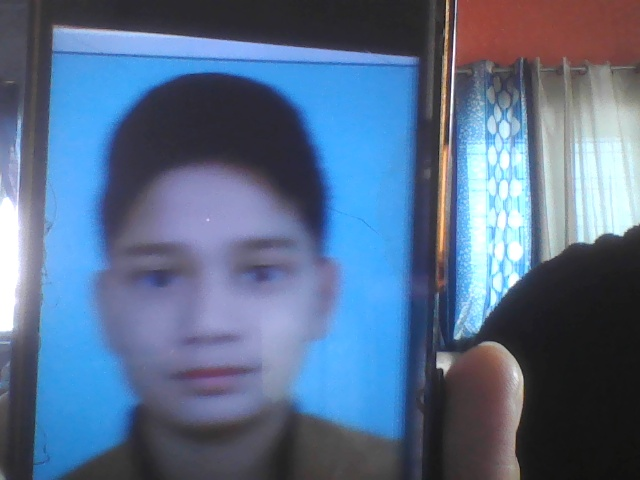fake: (83, 86, 348, 461)
